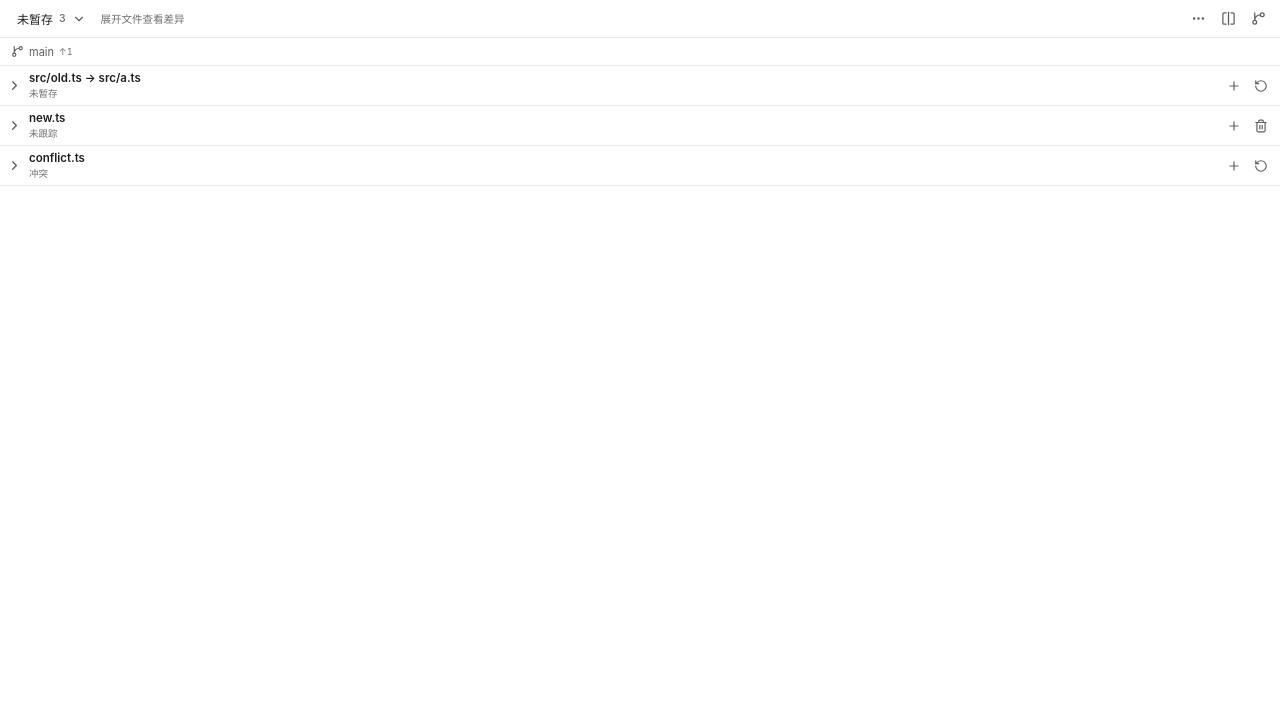
Test case: GitReviewPanel › 提交时真正包含未暂存文件，并支持提交后推送
The image size is (1280, 720).
Check: the text "main" is shown, box [29,44,54,58]
Click the button named "Git 操作": (1258, 18) [1244,4,1272,32]
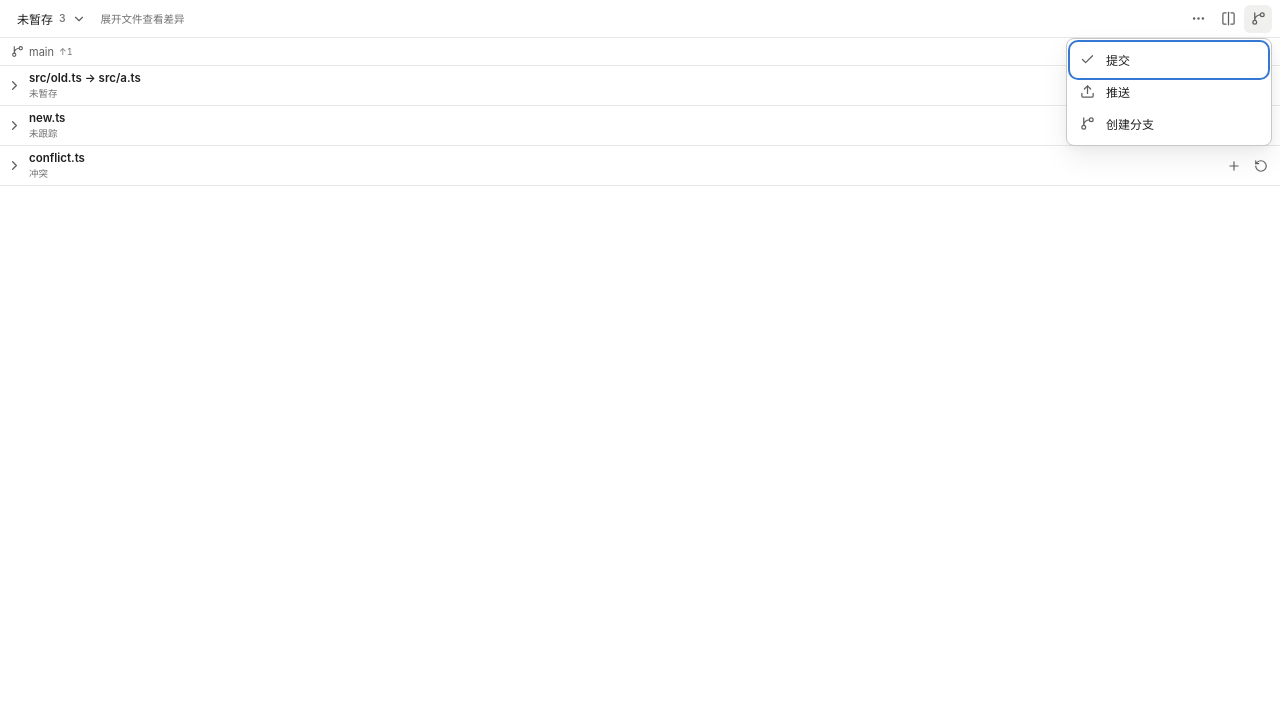
Click the menu item "提交": (1169, 60) [1072,44,1266,76]
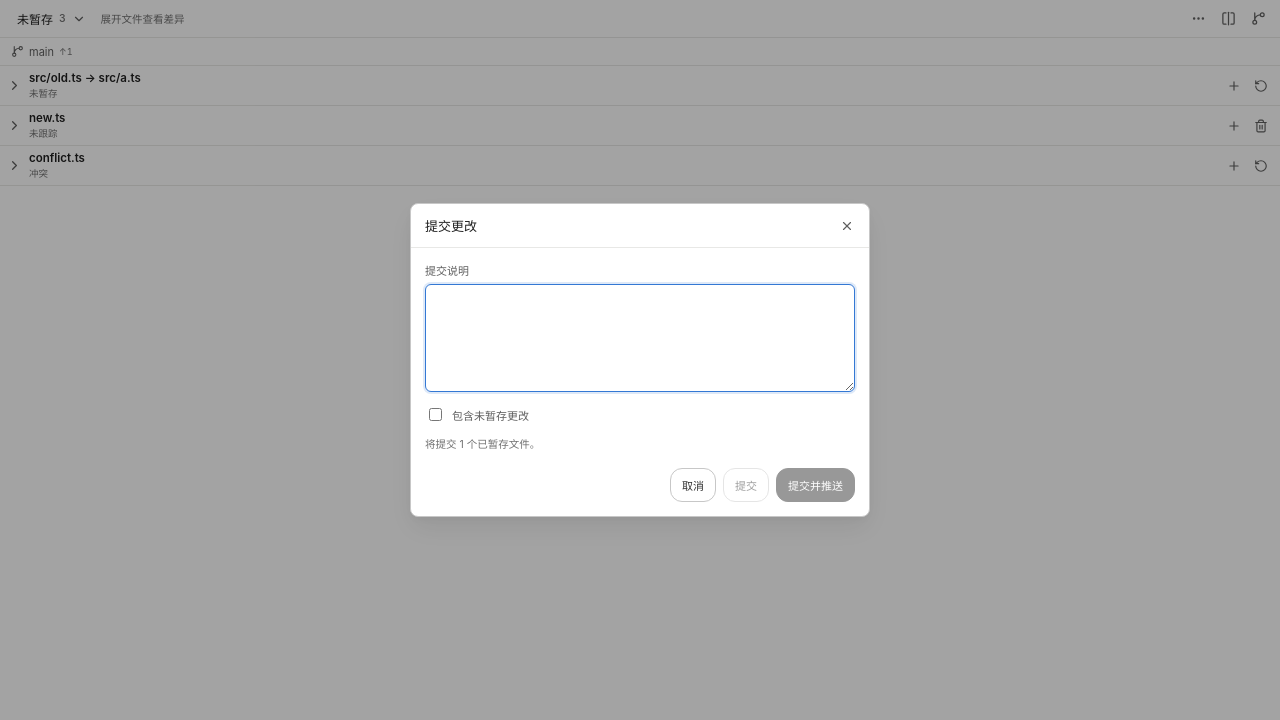
Click the checkbox labelled "包含未暂存更改": (436, 415) [429,408,442,421]
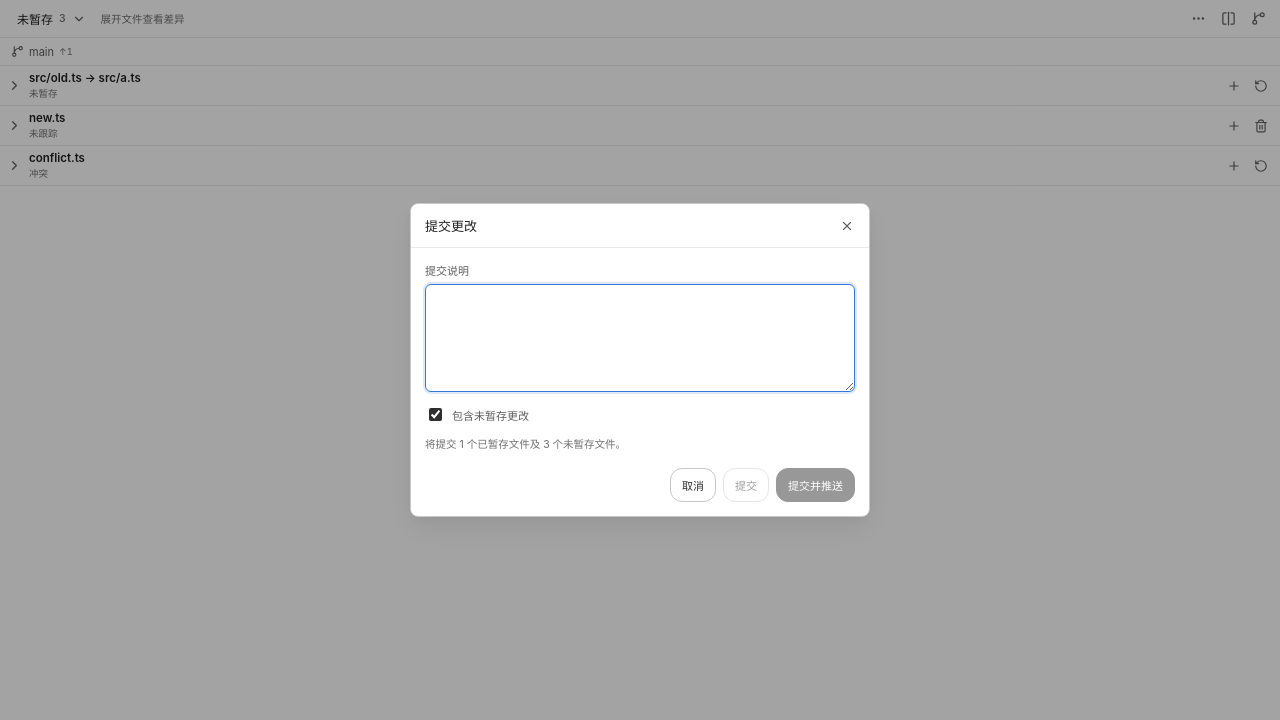
In the text box labelled "提交说明": (640, 338) [425,284,855,392], type "fix: review"
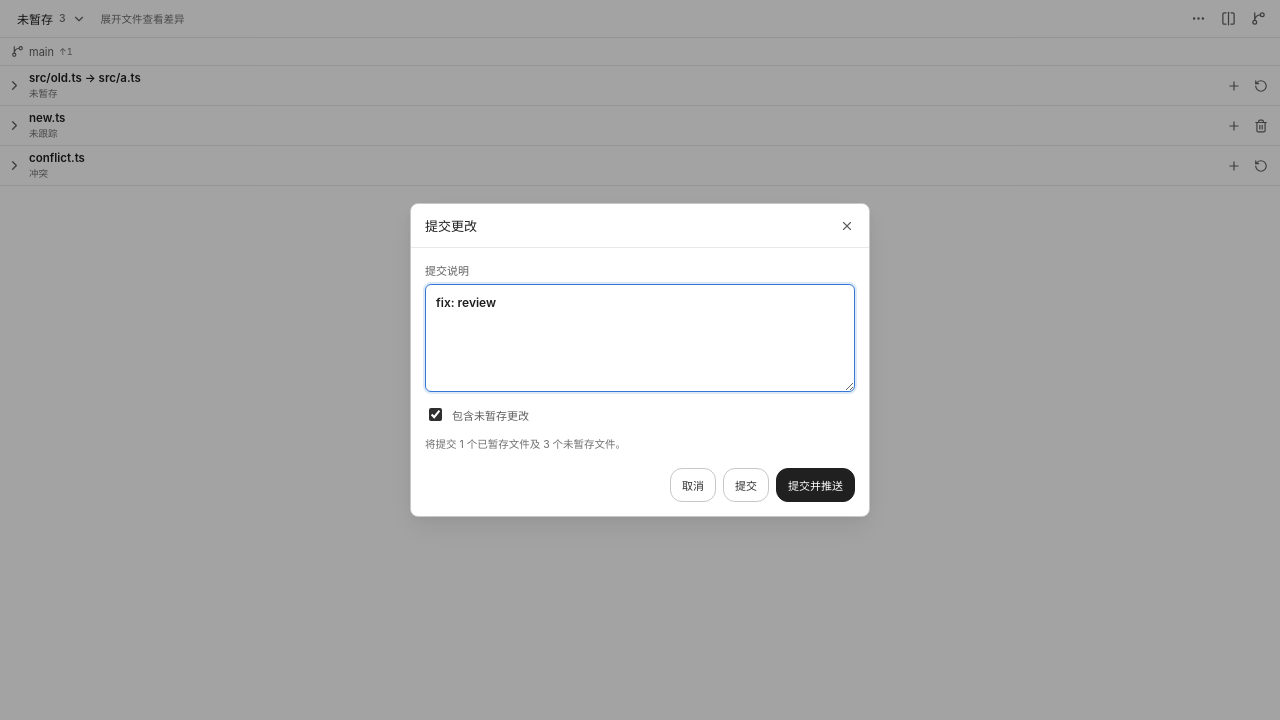
Click the button "提交并推送": (816, 485) [776,468,855,502]
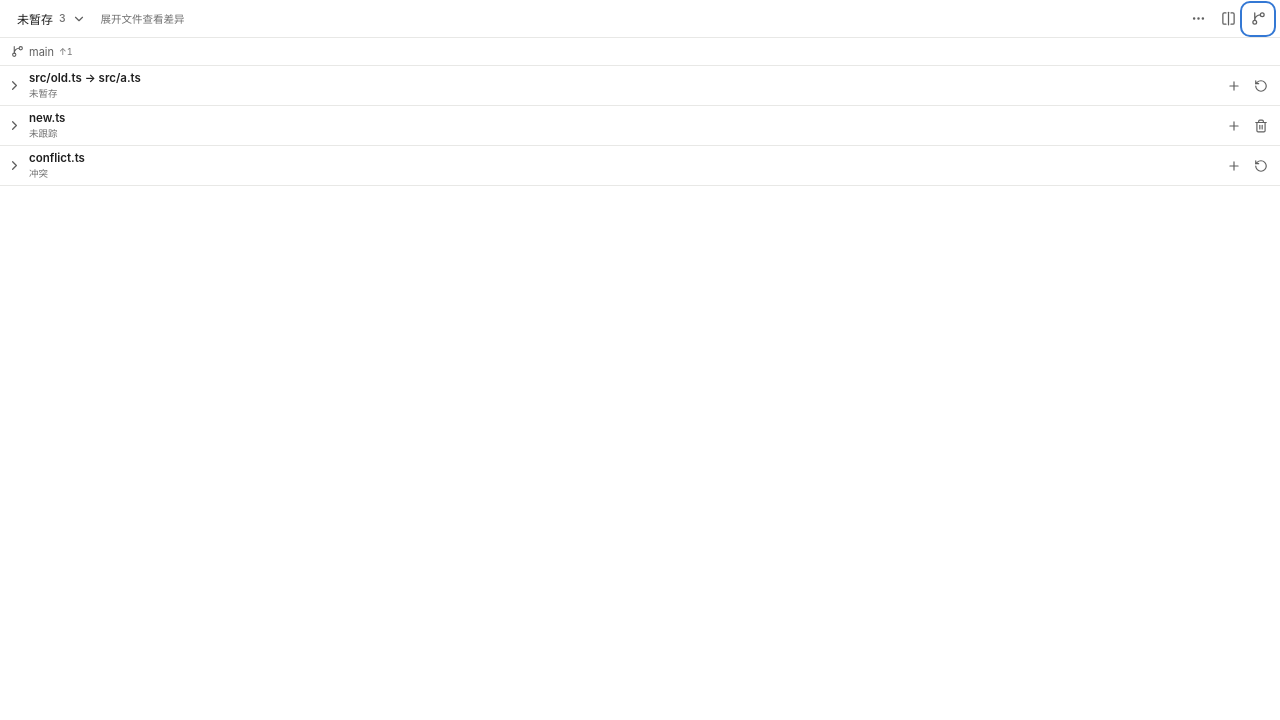
Check: the heading "提交更改" is gone
